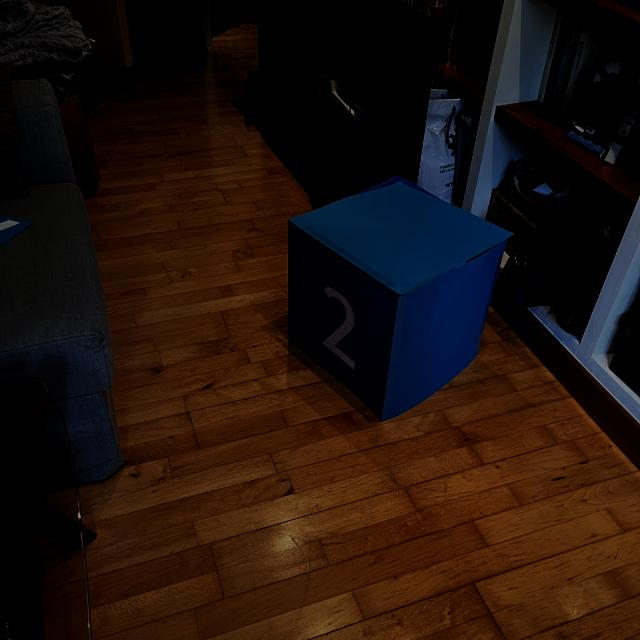box: (281, 172, 515, 422)
